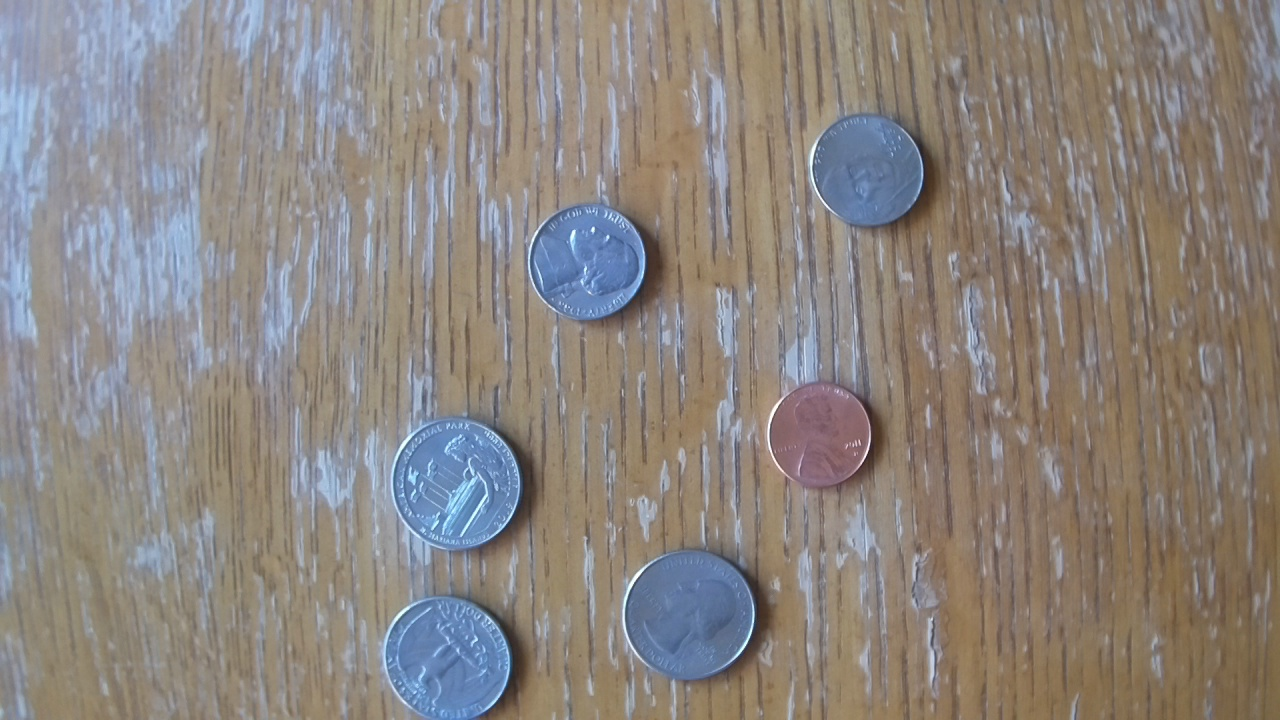nickel: (518, 198, 654, 326), (805, 110, 929, 230)
penny: (767, 379, 873, 489)
quarter: (620, 548, 756, 680), (389, 416, 523, 548), (379, 592, 515, 716)
